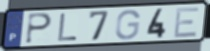4: (145, 8, 168, 40)
7: (87, 10, 113, 42)
E: (173, 6, 202, 39)
G: (114, 9, 142, 41)
L: (56, 13, 79, 43)
P: (24, 12, 54, 45)
